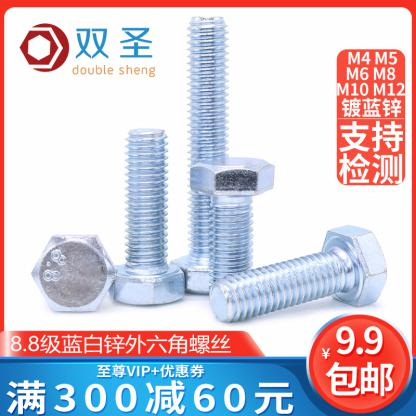FOD: (168, 16, 248, 297), (207, 223, 389, 325), (104, 128, 186, 309), (187, 155, 275, 298), (28, 230, 118, 314)
